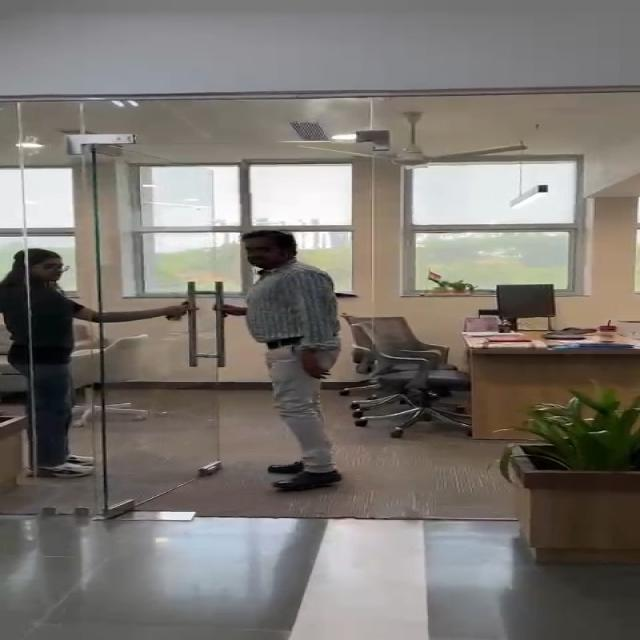floor: (0, 530, 640, 640), (336, 434, 514, 531)
furniture: (523, 390, 640, 560), (349, 318, 454, 422), (464, 270, 586, 336)
moving_object: (230, 230, 353, 488), (0, 240, 92, 486)
wall: (14, 109, 640, 228)
